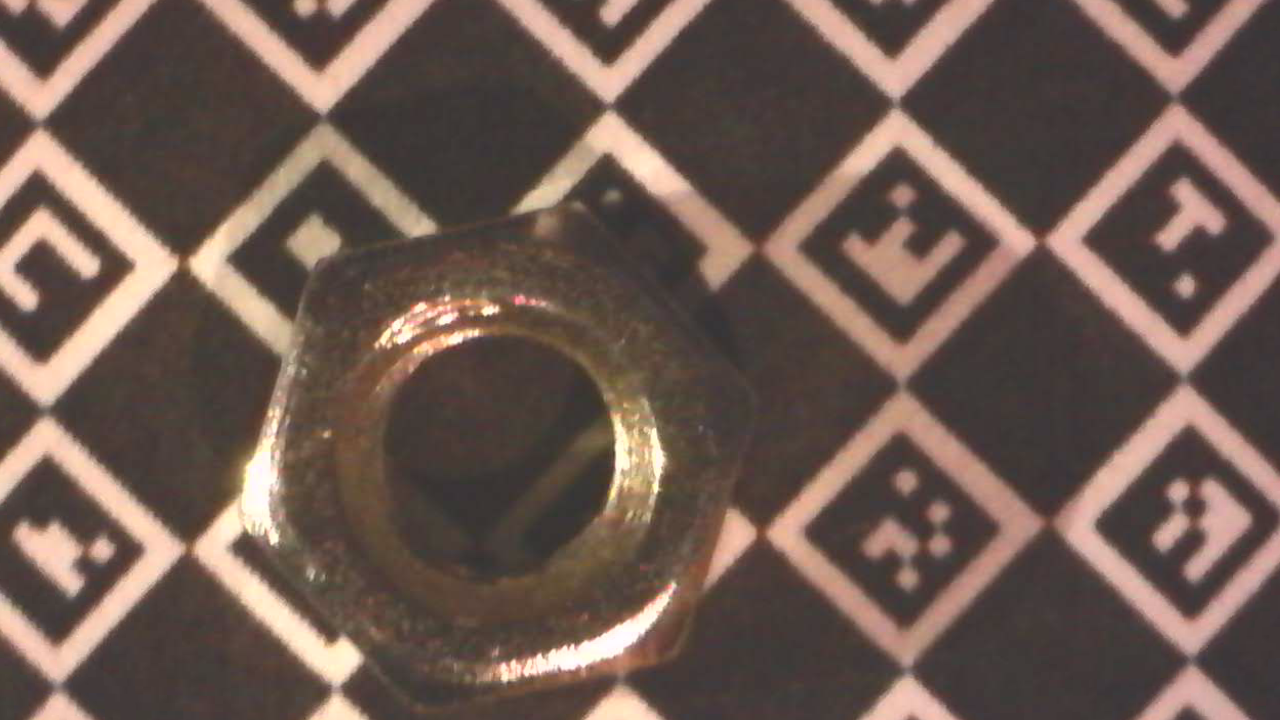Bolt: (238, 195, 773, 715)
